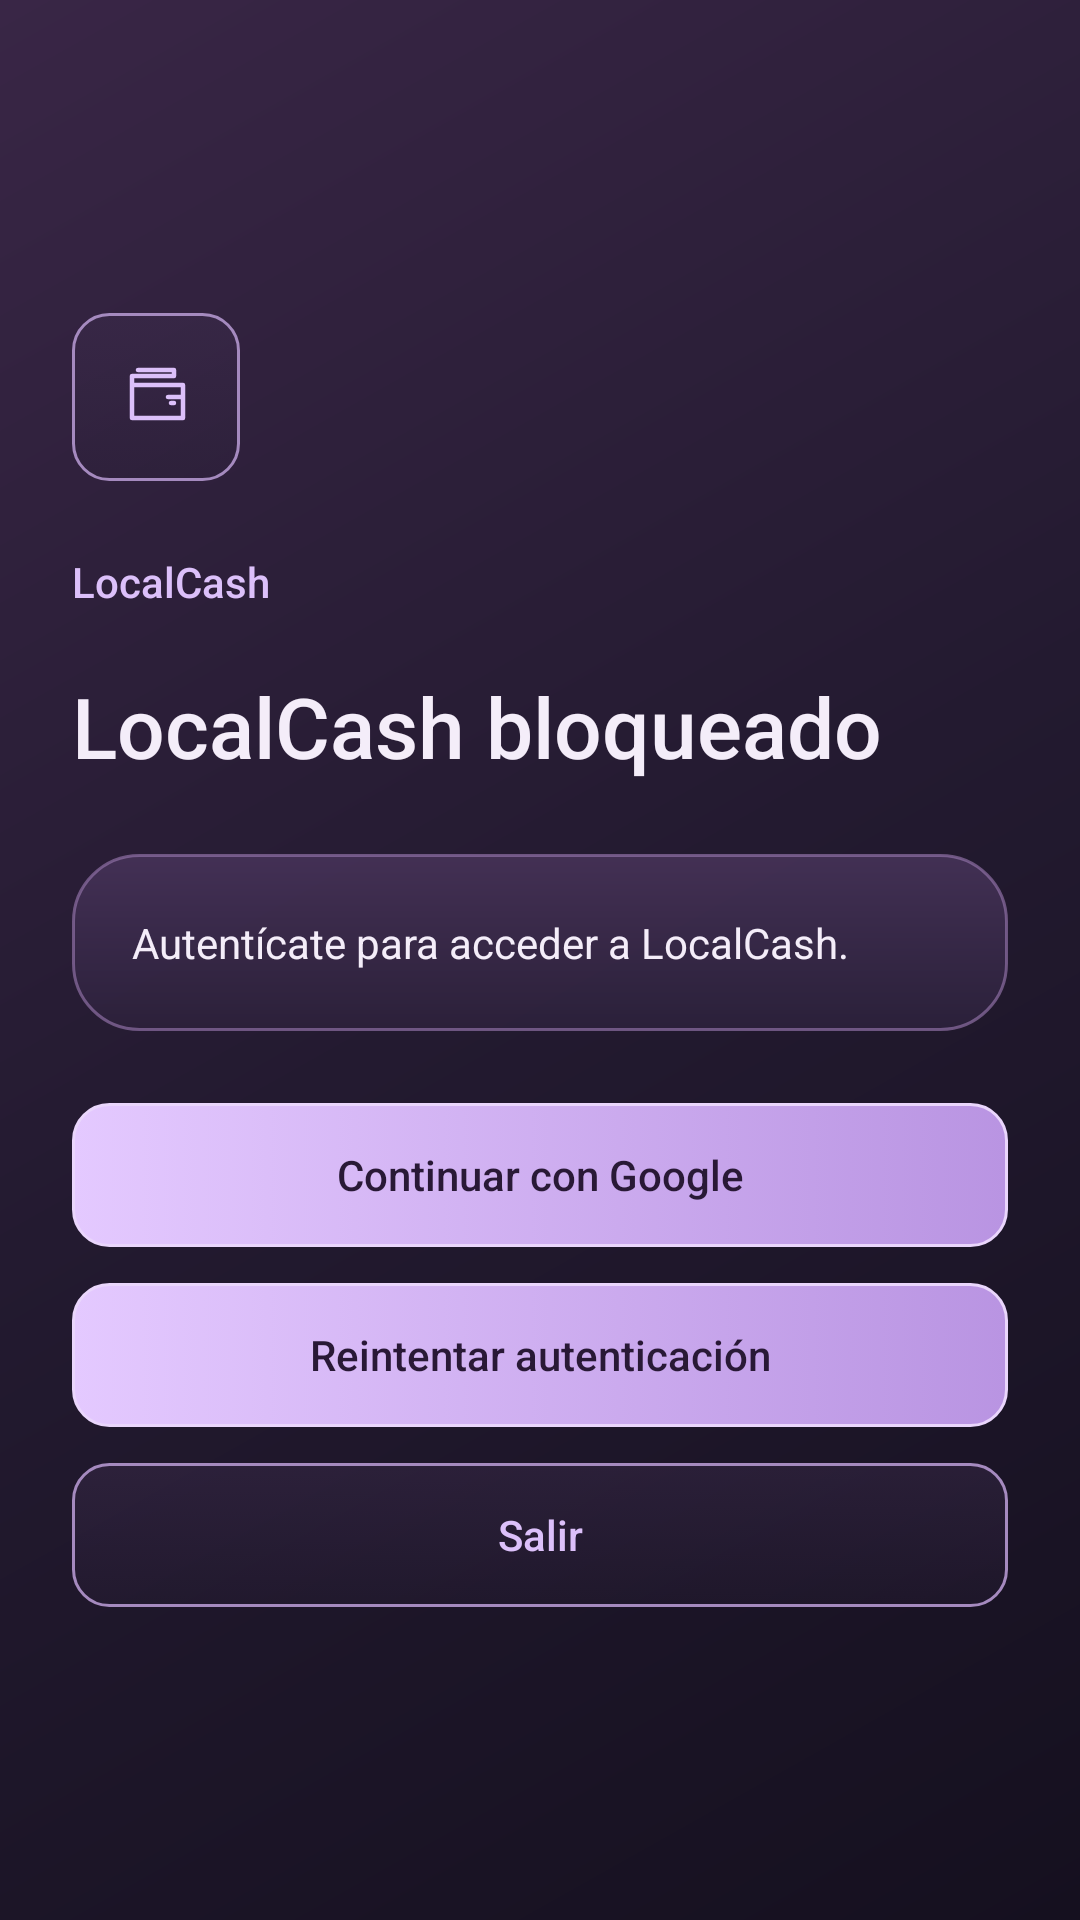

Screen size 1080*1920. Icon name, then its box in pixels as detection(x1, y1, x2, y2):
cuentas wallet: detection(72, 313, 240, 481)
